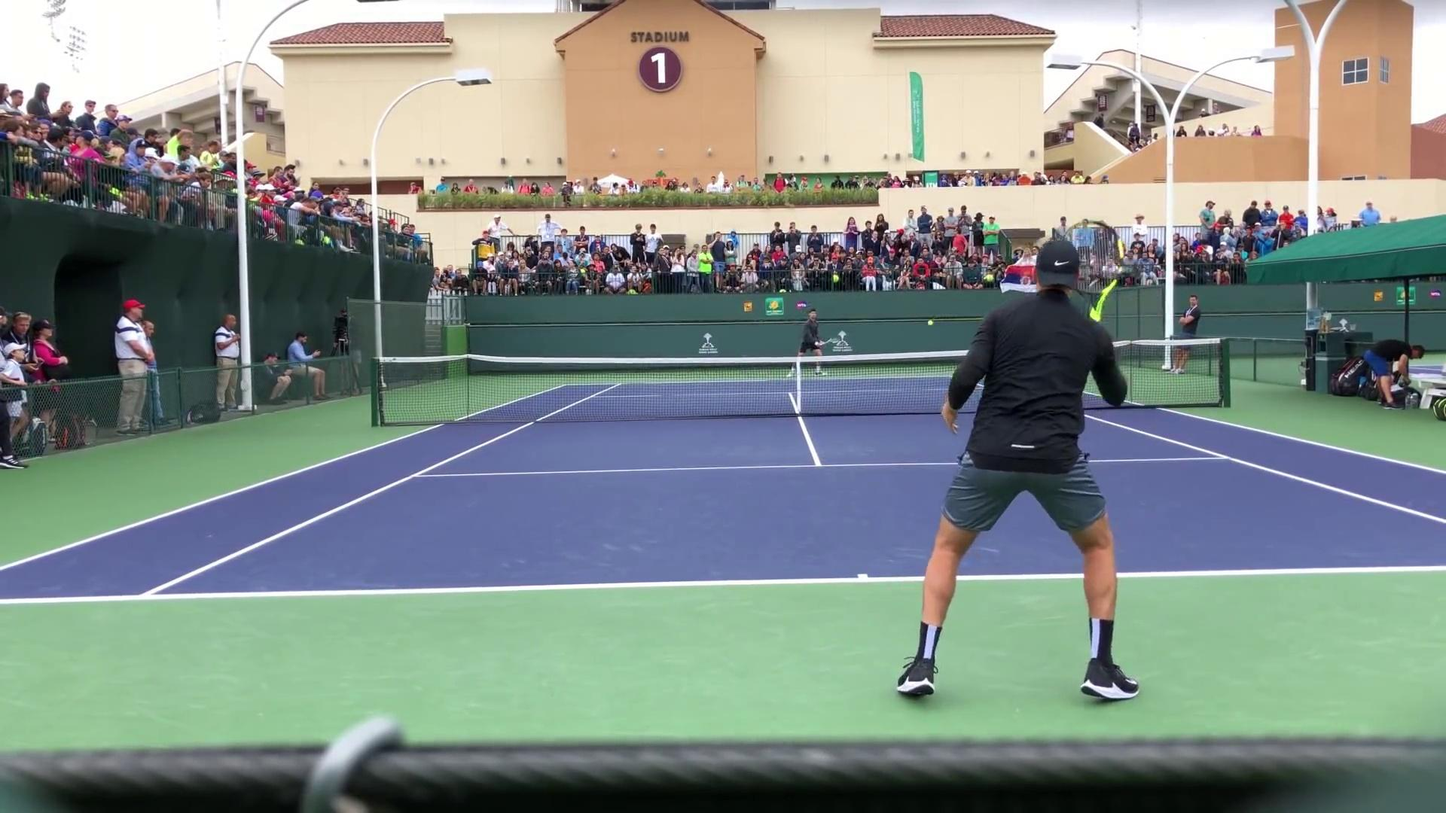ball: (926, 319, 933, 327)
